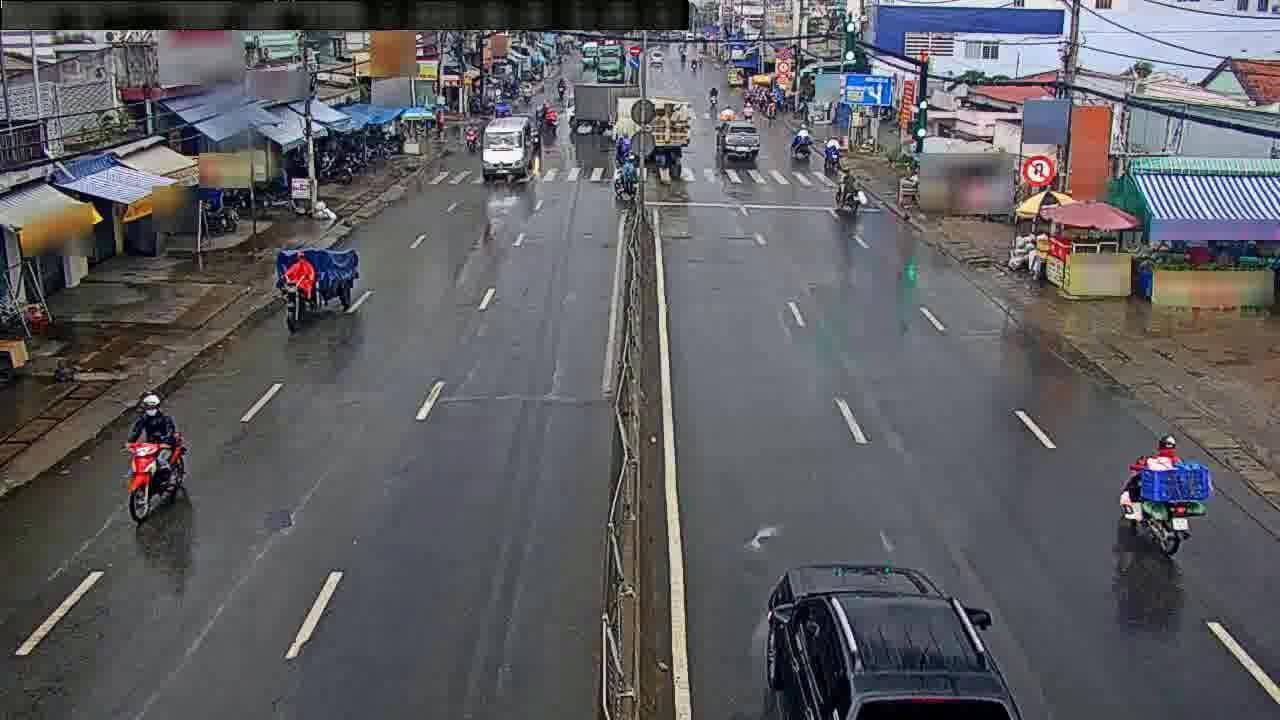14: (483, 114, 533, 190)
container: (764, 551, 1028, 720)
motorbike: (1125, 427, 1199, 558), (119, 396, 187, 526), (832, 166, 862, 215), (611, 158, 637, 195), (822, 129, 843, 170), (788, 124, 808, 159)
